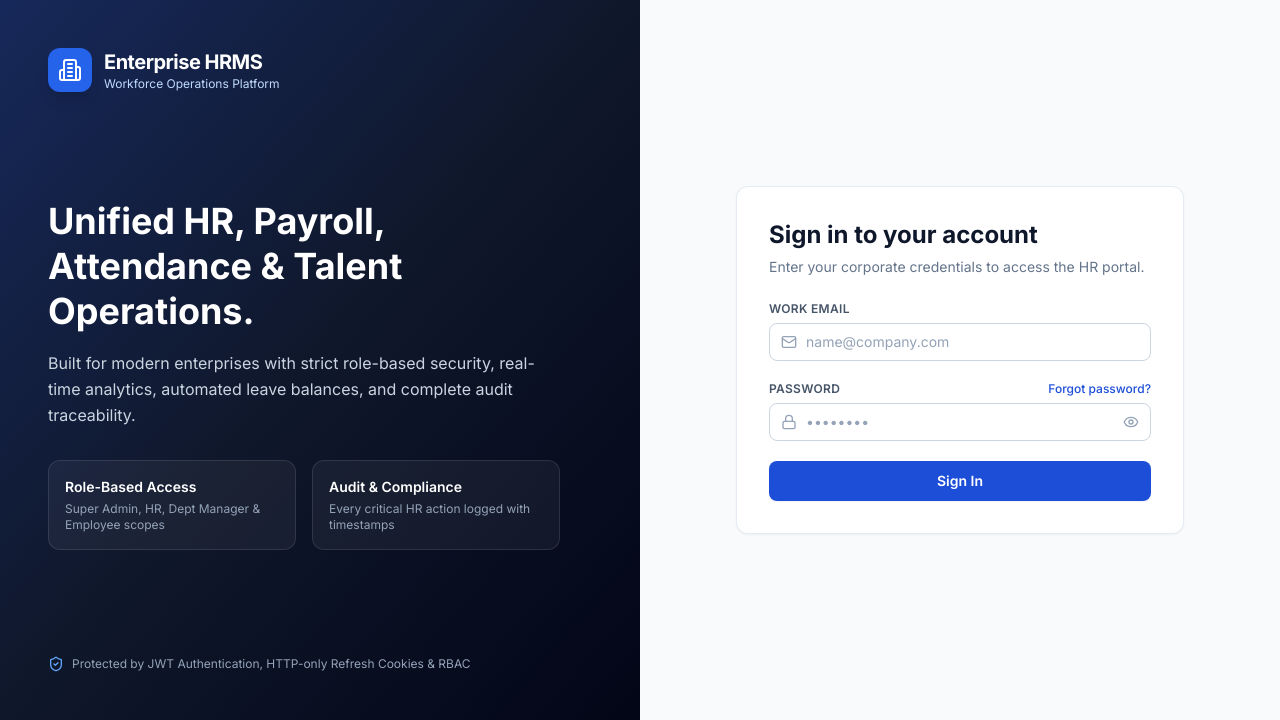
Test: Frontend Component & Form Validation Tests › rejects malformed email on LoginPage
The image size is (1280, 720).
Type "invalid-email" into the field labelled "Work Email" at {"x": 960, "y": 342}, box [769, 323, 1151, 361]
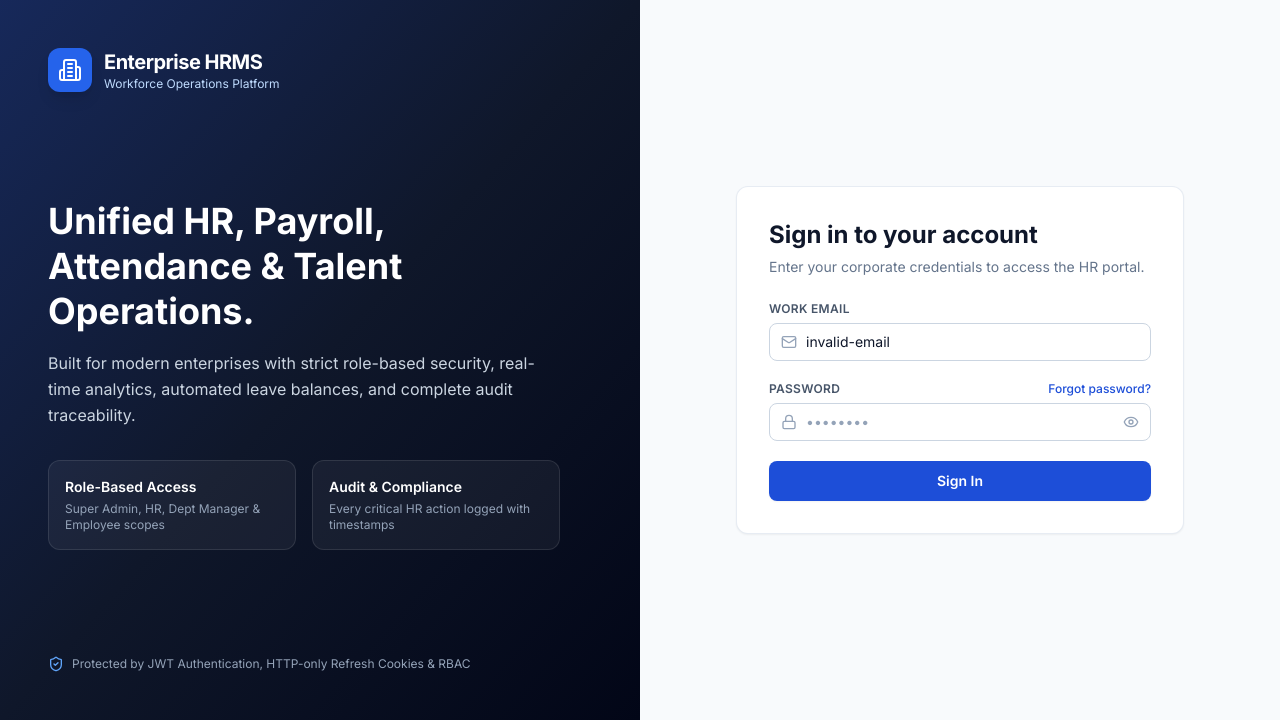
Type "Password123!" into the password field labelled "Password" at {"x": 960, "y": 422}, box [769, 403, 1151, 441]
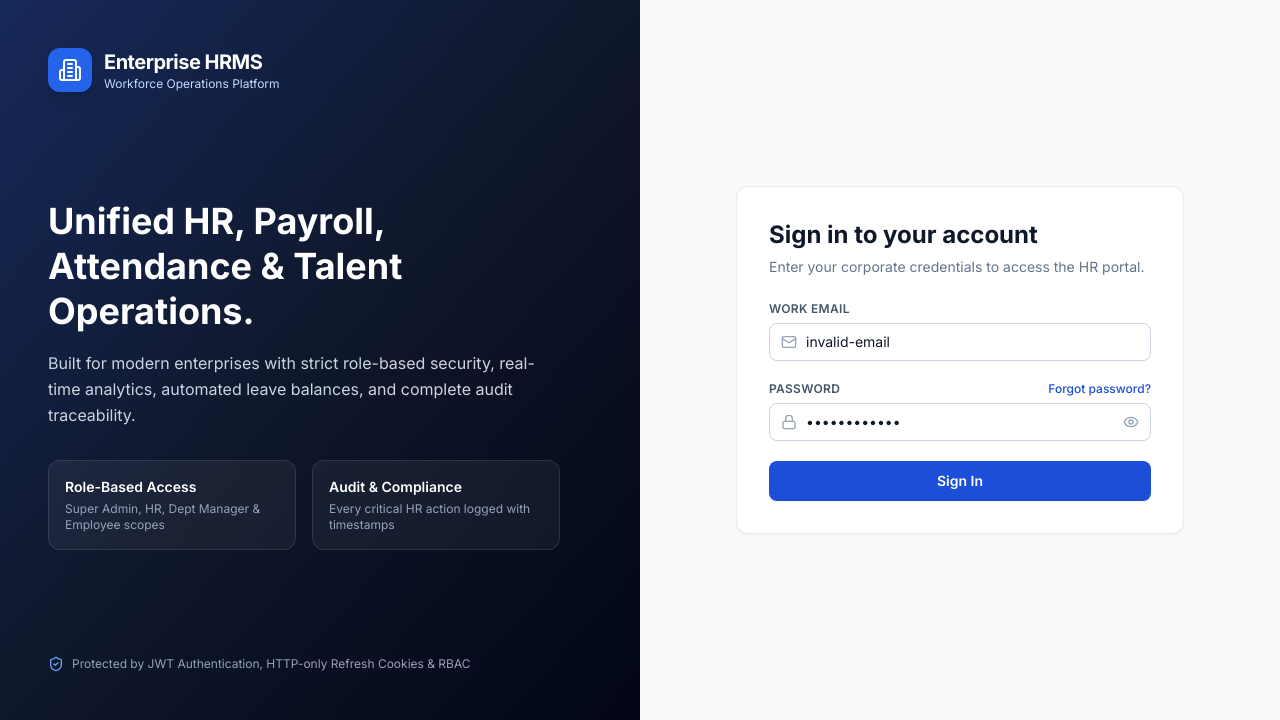
Click the button "Sign In" at {"x": 960, "y": 481}, box [769, 461, 1151, 501]
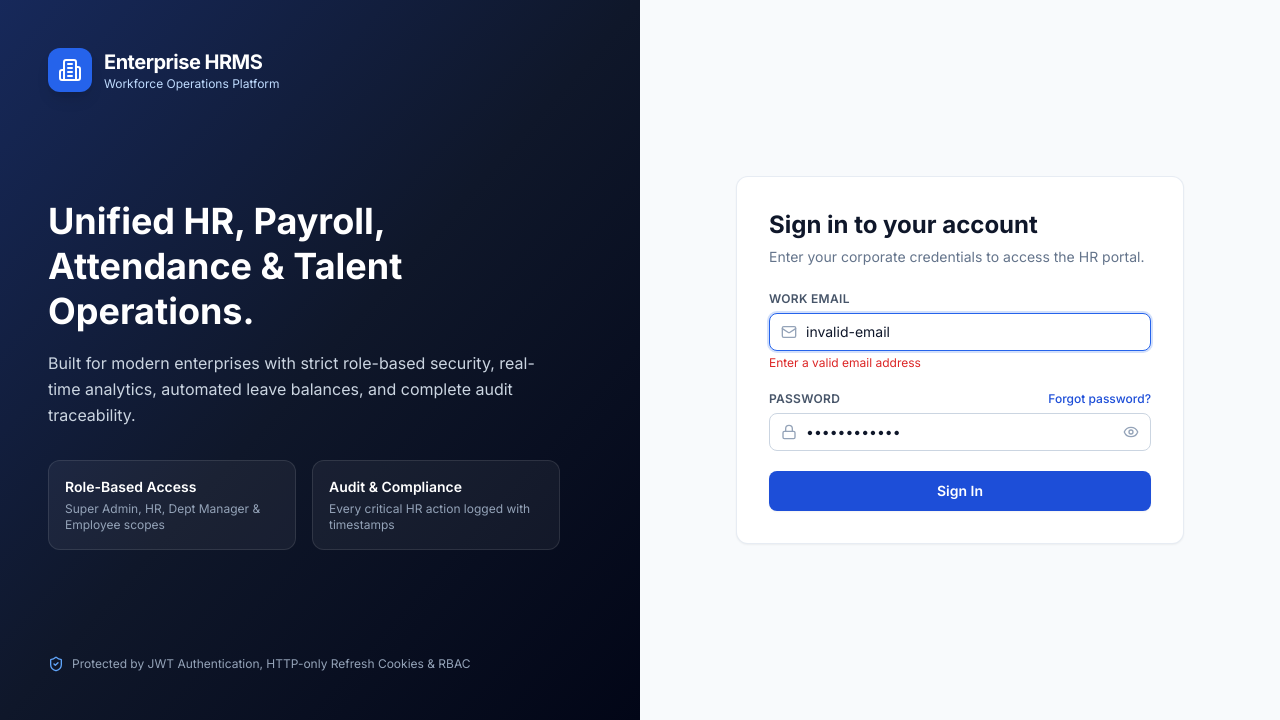
Expected: the text "Enter a valid email address" is shown, [769, 355, 921, 370]
